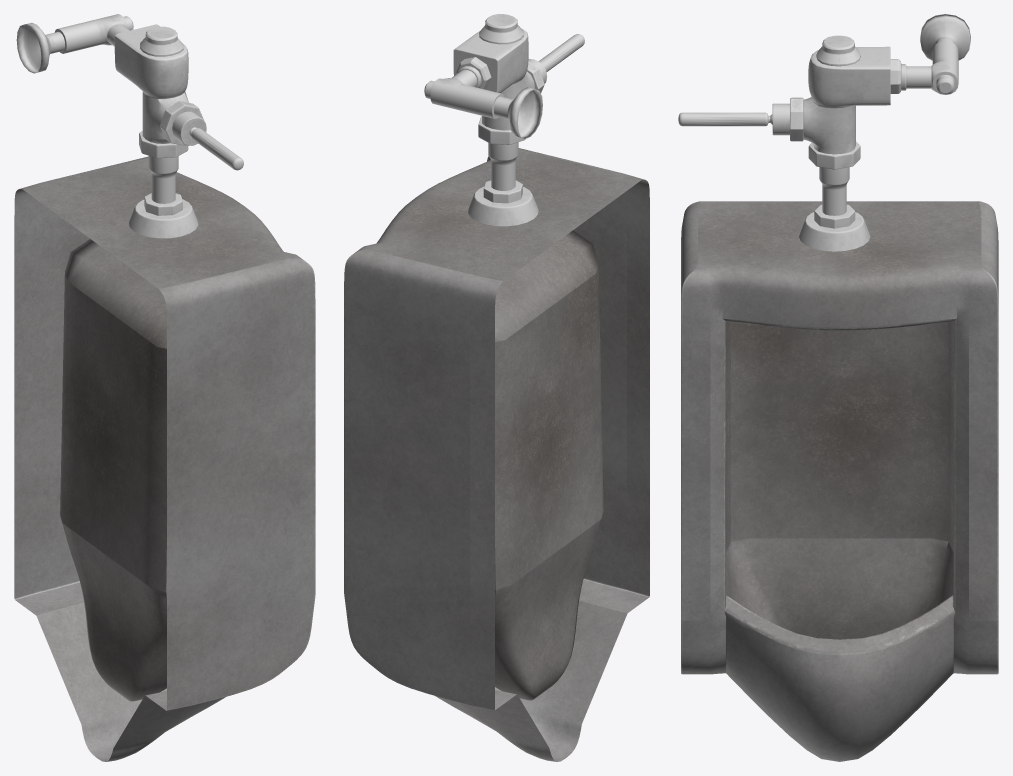
File: urinal.glb
3 views of the same model, side by side, from view 1: azimuth 30°, elevation 25°; view 2: azimuth 150°, elevation 25°; view 3: azimuth 270°, elevation 25° (orthographic). The views are drawn at different scales.
Visible parts, largest first — view 1: Object_2; view 2: Object_2; view 3: Object_2.
Part boxes in pixels (x1,y1,x2,y2): Object_2: (14, 14, 315, 761); Object_2: (344, 14, 649, 761); Object_2: (678, 14, 998, 761).
Size of the model in its own units: 4.28 by 13.49 by 5.37.
Materials: 1 (1 with a texture image).
